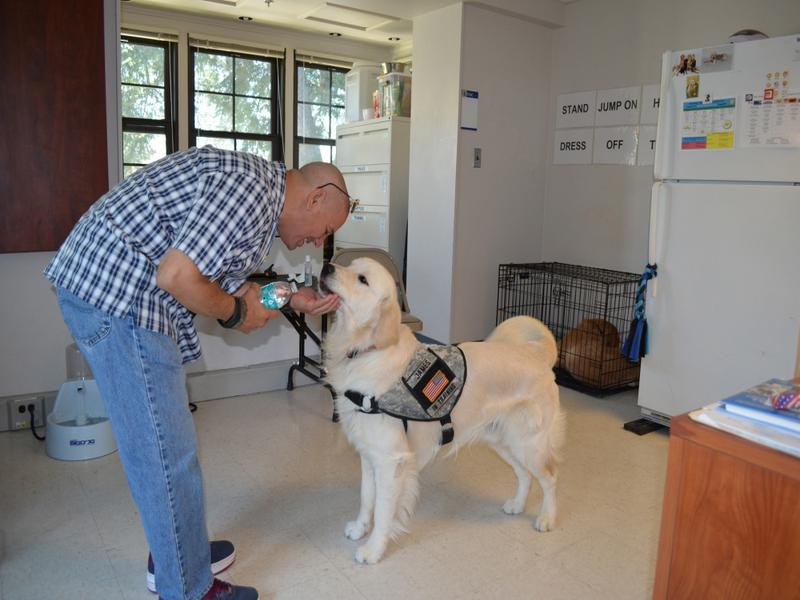dog_stand: (310, 245, 578, 573)
